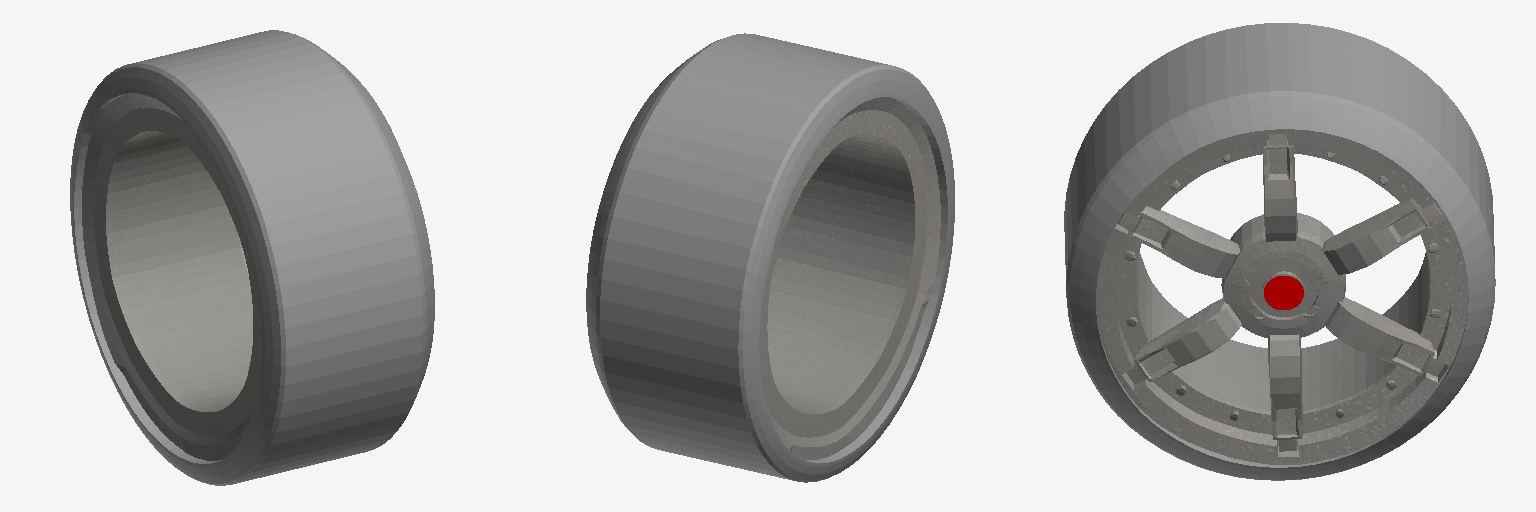
The picture shows the model from 3 angles: view 1: azimuth 30°, elevation 25°; view 2: azimuth 150°, elevation 25°; view 3: azimuth 270°, elevation 25°; orthographic projection.
Parts seen in each view (by area): view 1: Wheel.001_Circle.000; view 2: Wheel.001_Circle.000; view 3: Wheel.001_Circle.000.
Boxes of the visible parts, x1=… form: Wheel.001_Circle.000: x1=70, y1=30, x2=434, y2=485; Wheel.001_Circle.000: x1=586, y1=33, x2=954, y2=482; Wheel.001_Circle.000: x1=1064, y1=23, x2=1495, y2=480.
Size of the model in its own units: 0.3365 by 0.7194 by 0.7192.
Materials: 3 (1 with a texture image).